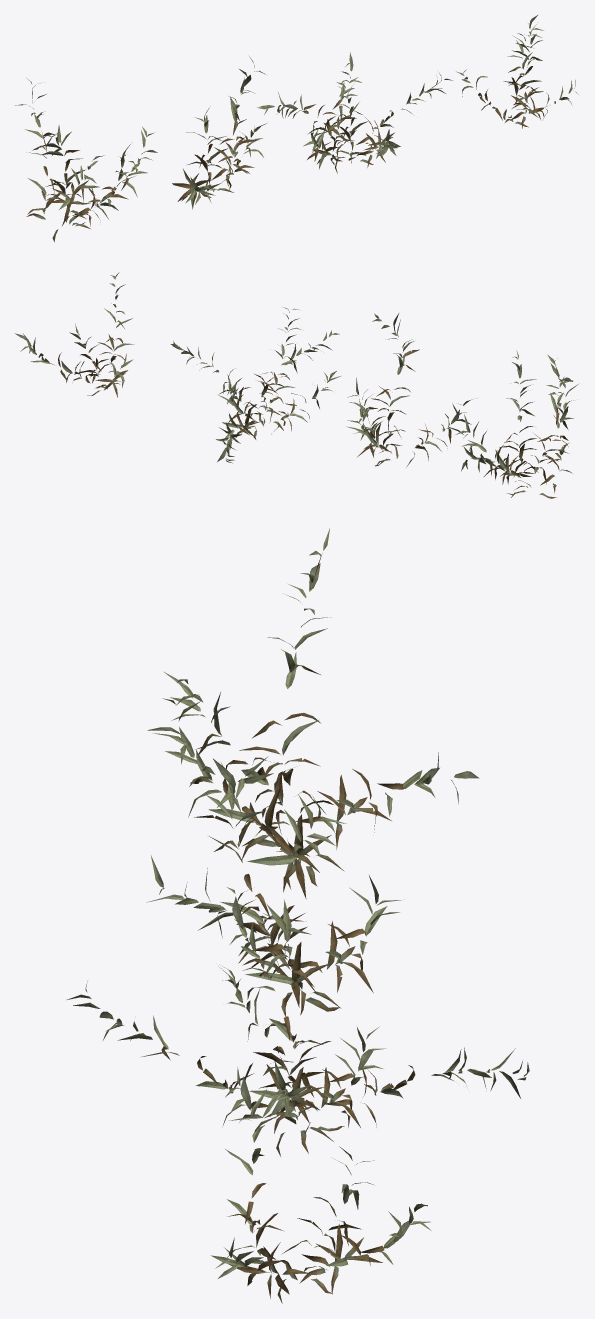
The model's file is shrub_02.gltf.
3 renders of one model, top to bottom at view 1: azimuth 30°, elevation 25°; view 2: azimuth 150°, elevation 25°; view 3: azimuth 270°, elevation 25°, orthographic. The views are drawn at different scales.
Visible parts, largest first — view 1: shrub_02_a, shrub_02_c, shrub_02_b, shrub_02_d; view 2: shrub_02_a, shrub_02_c, shrub_02_b, shrub_02_d; view 3: shrub_02_a, shrub_02_c, shrub_02_b, shrub_02_d.
Part boxes in pixels (x1,y1,x2,y2): shrub_02_a: (15, 79, 157, 242); shrub_02_c: (257, 52, 452, 173); shrub_02_b: (172, 56, 266, 209); shrub_02_d: (456, 15, 578, 128); shrub_02_a: (455, 351, 579, 498); shrub_02_c: (170, 307, 340, 463); shrub_02_b: (347, 313, 472, 467); shrub_02_d: (15, 272, 134, 397); shrub_02_a: (147, 528, 479, 898); shrub_02_c: (67, 887, 529, 1156); shrub_02_b: (146, 756, 404, 1016); shrub_02_d: (210, 1067, 431, 1303).
Bounding box in the file's own units: 6.05 × 1.7 × 2.28.
Materials: 1 (1 with a texture image).
